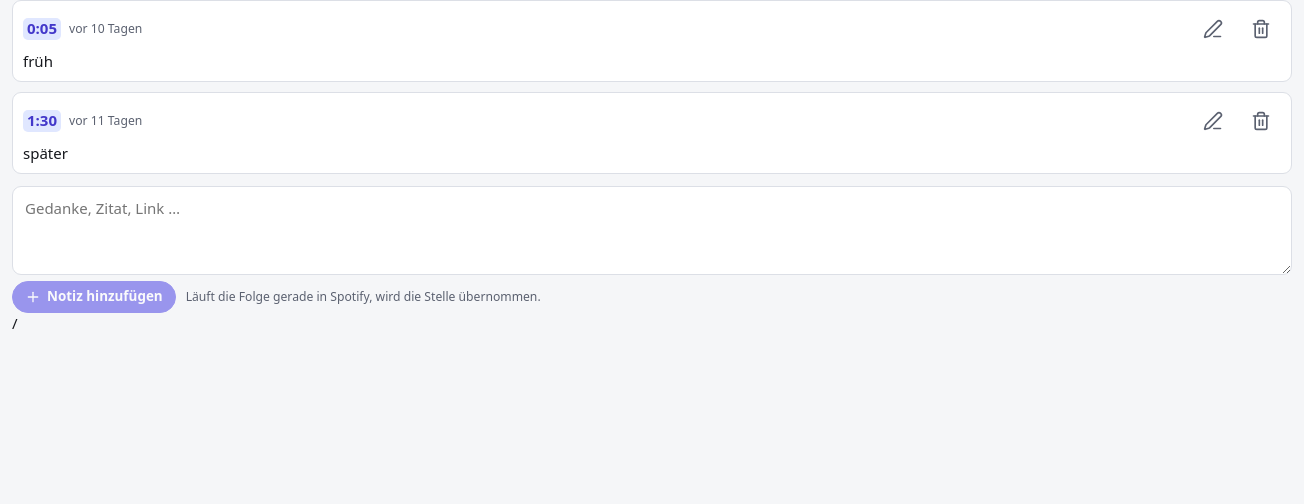
Test: EpisodeNotes › edits the text and position of a single note
This screenshot has width=1304, height=504.
Expected: the text "später" is shown, top-left (23, 143), bottom-right (68, 163)
Click the button named "Notiz bearbeiten" in the row of "vor 11 Tagen" at (1213, 121), box top-left (1193, 101), bottom-right (1233, 141)
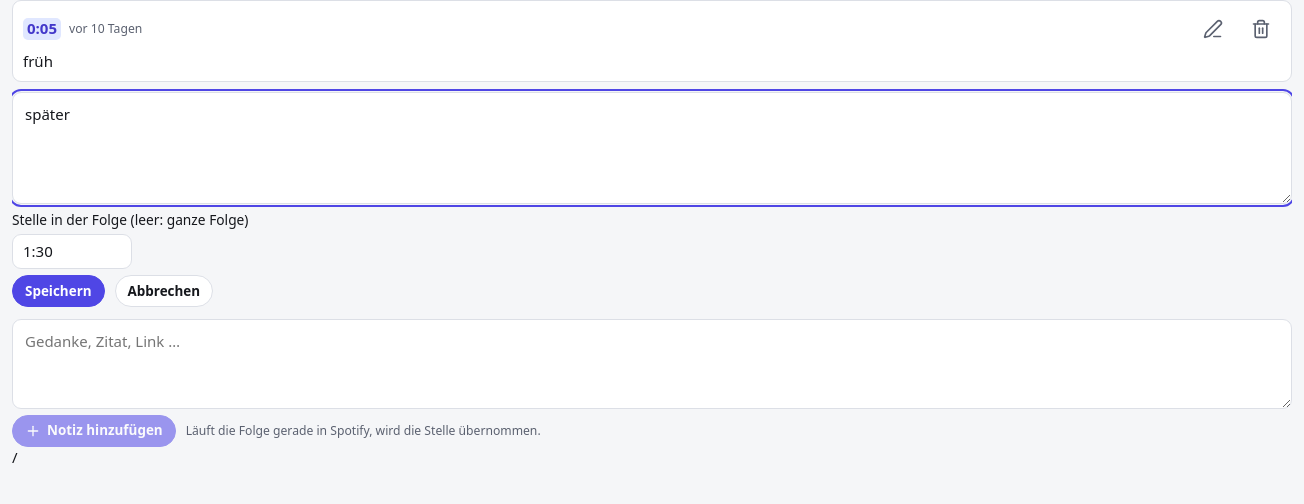
Replace the text in the text box named "Text der Notiz" with "korrigiert" at (652, 148), box top-left (12, 92), bottom-right (1292, 204)
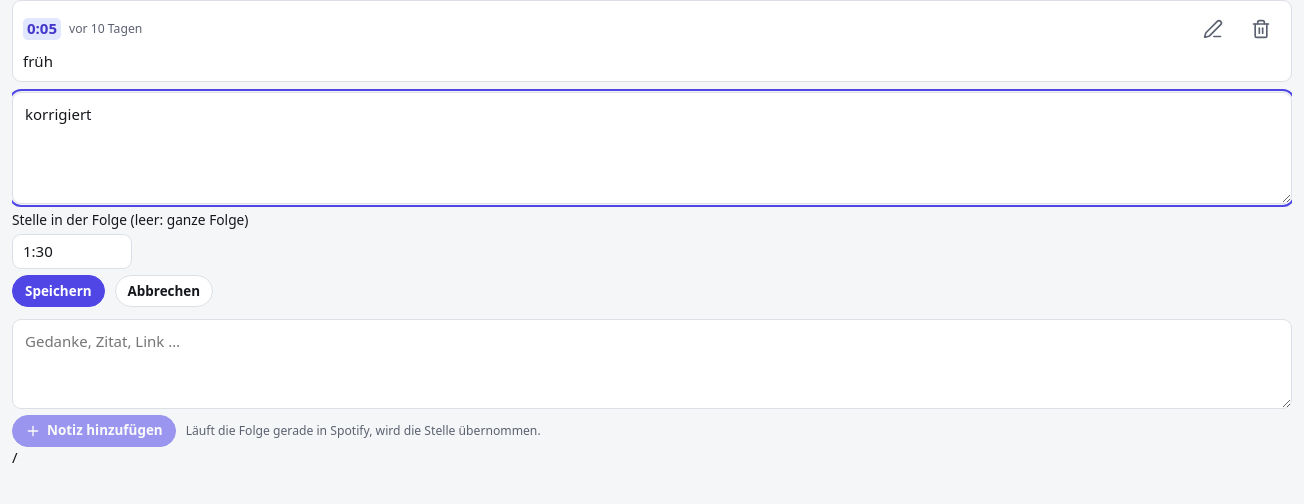
Replace the text in the field labelled "Stelle in der Folge (leer: ganze Folge)" with "1:2" at (72, 252), box top-left (12, 234), bottom-right (132, 270)
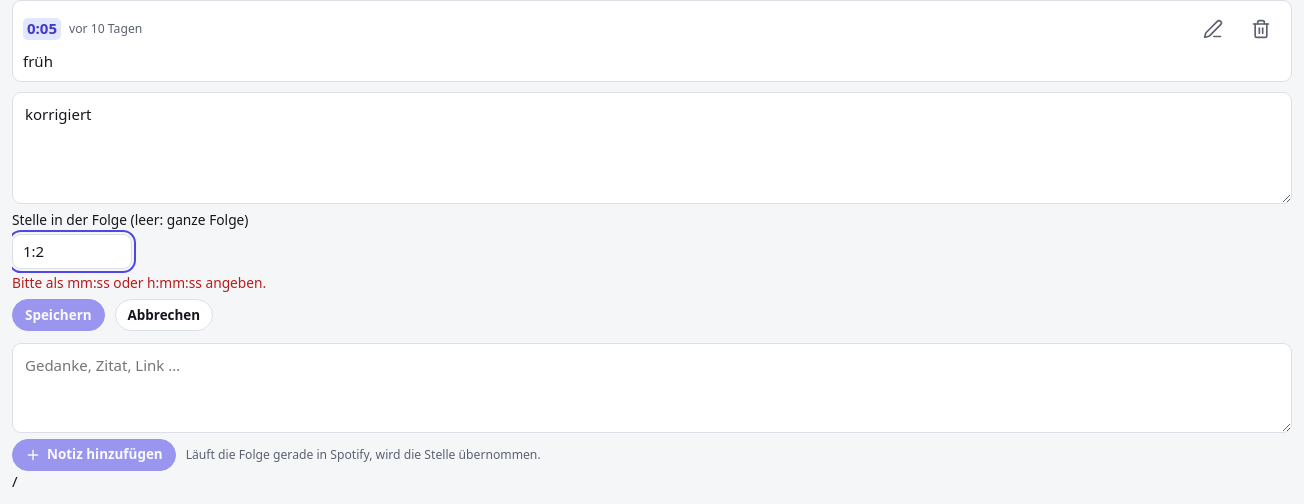
Result: the text "Bitte als mm:ss oder h:mm:ss angeben." is shown at top-left (12, 274), bottom-right (266, 292)
Result: the button "Speichern" is disabled at top-left (12, 299), bottom-right (105, 331)
Type "0" into the field at (72, 252), box top-left (12, 234), bottom-right (132, 270)
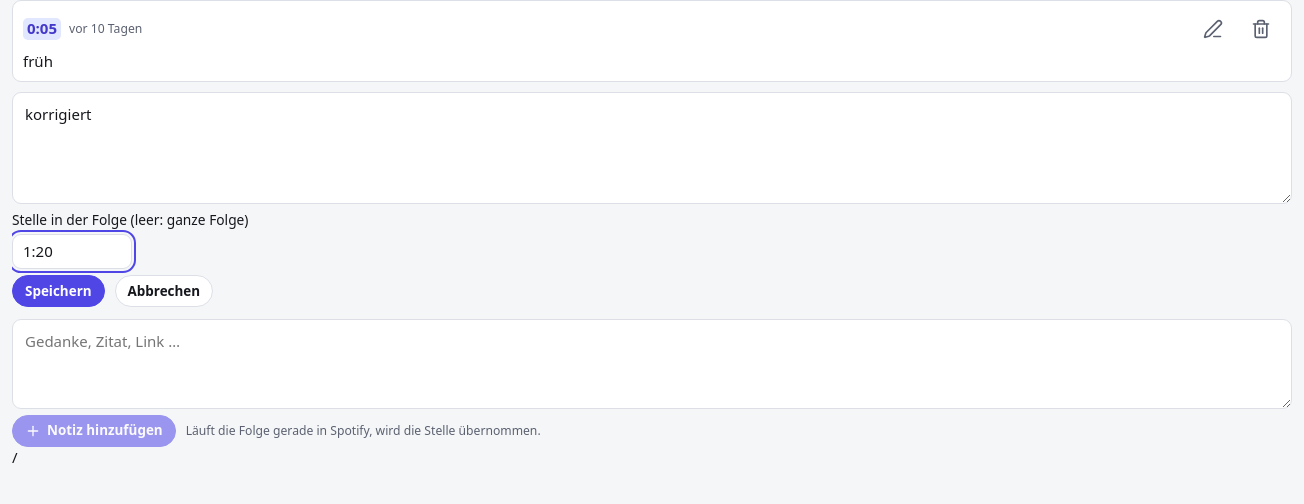
Click the button "Speichern" at (58, 292), box top-left (12, 276), bottom-right (105, 308)
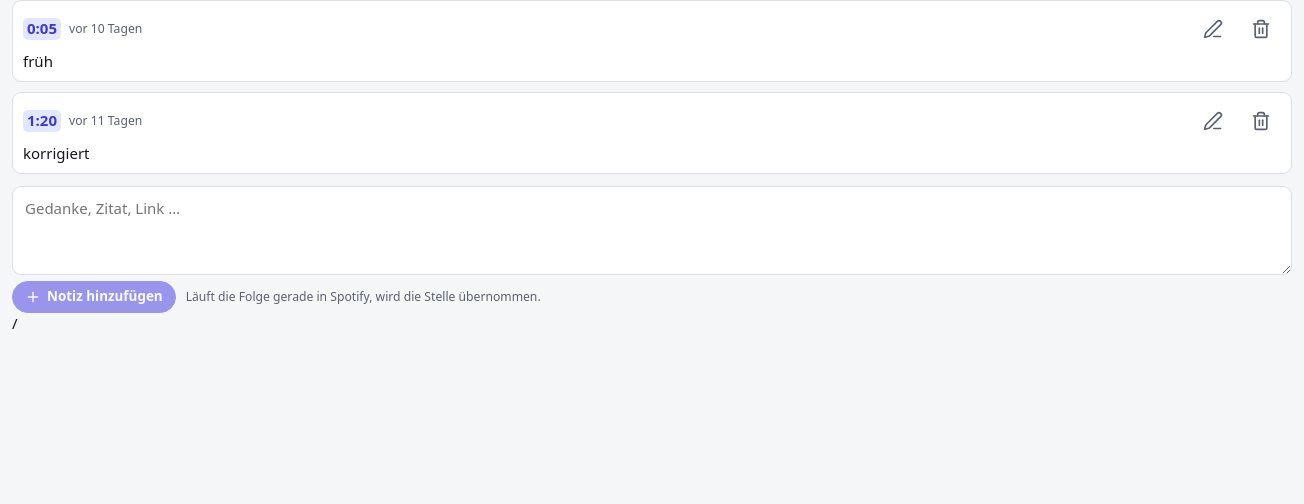
Result: the text "korrigiert" is shown at top-left (23, 143), bottom-right (90, 163)
